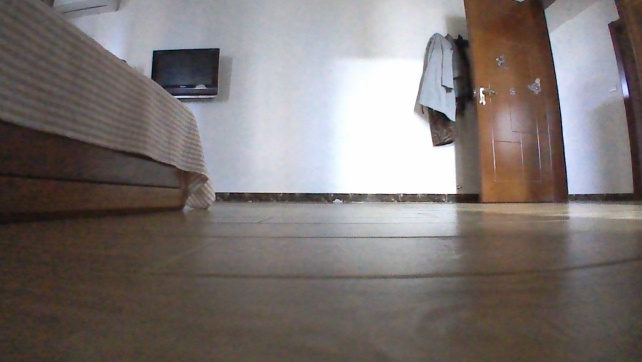bed1: (0, 0, 214, 217)
door_anno: (461, 0, 570, 204)
